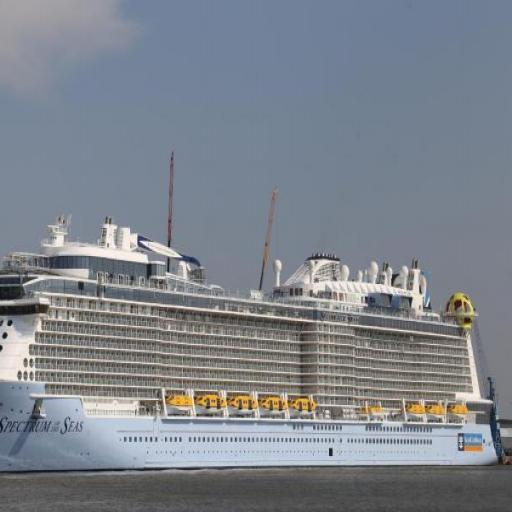cruises: (1, 213, 503, 488)
